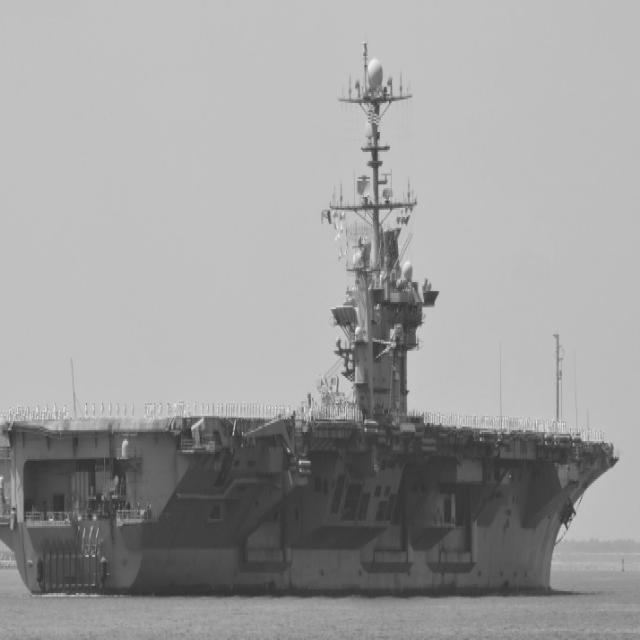Portanaves: (1, 39, 623, 599)
